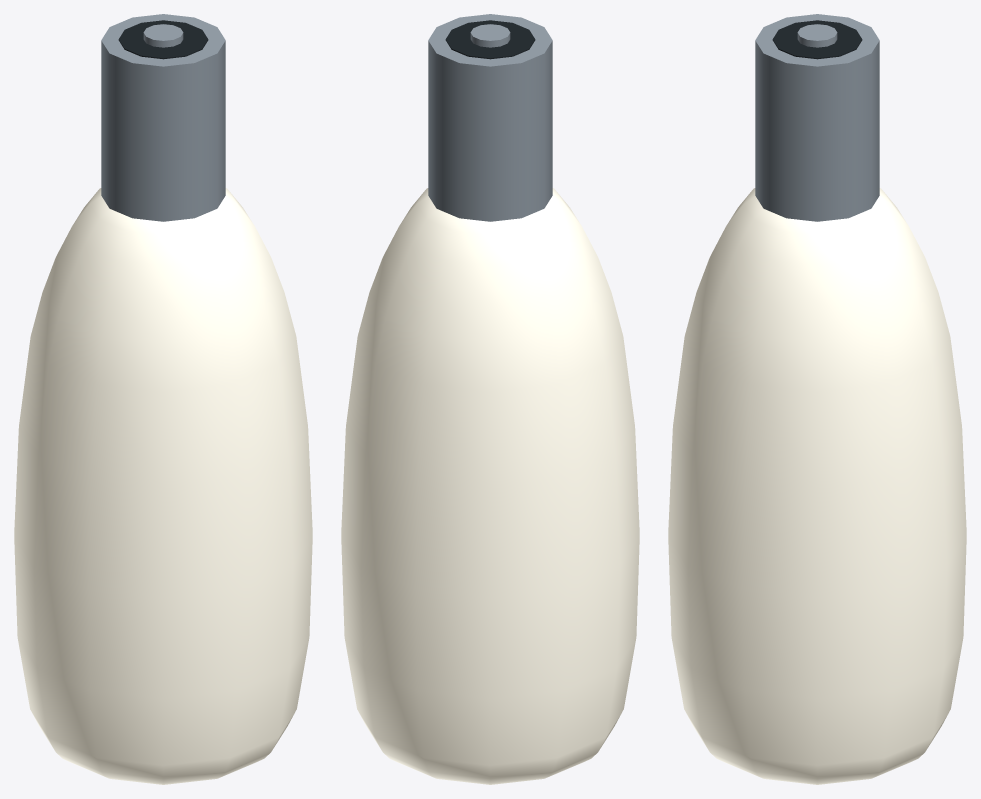
The model's file is source.glb.
3 views of the same model, side by side, from view 1: azimuth 30°, elevation 25°; view 2: azimuth 150°, elevation 25°; view 3: azimuth 270°, elevation 25° (orthographic).
Visible parts, largest first — view 1: Emitters, 机加工金属, 密封及绝缘件; view 2: Emitters, 机加工金属, 密封及绝缘件; view 3: Emitters, 机加工金属, 密封及绝缘件.
Boxes of the visible parts, left/top/right/bottom form: Emitters: left=14, top=188, right=312, bottom=784; 机加工金属: left=101, top=14, right=225, bottom=221; 密封及绝缘件: left=118, top=20, right=208, bottom=59; Emitters: left=341, top=188, right=639, bottom=784; 机加工金属: left=428, top=14, right=552, bottom=221; 密封及绝缘件: left=445, top=20, right=535, bottom=59; Emitters: left=668, top=188, right=966, bottom=784; 机加工金属: left=755, top=14, right=879, bottom=221; 密封及绝缘件: left=772, top=20, right=862, bottom=59.
Size of the model in its own units: 0.0518 by 0.1371 by 0.0518.
